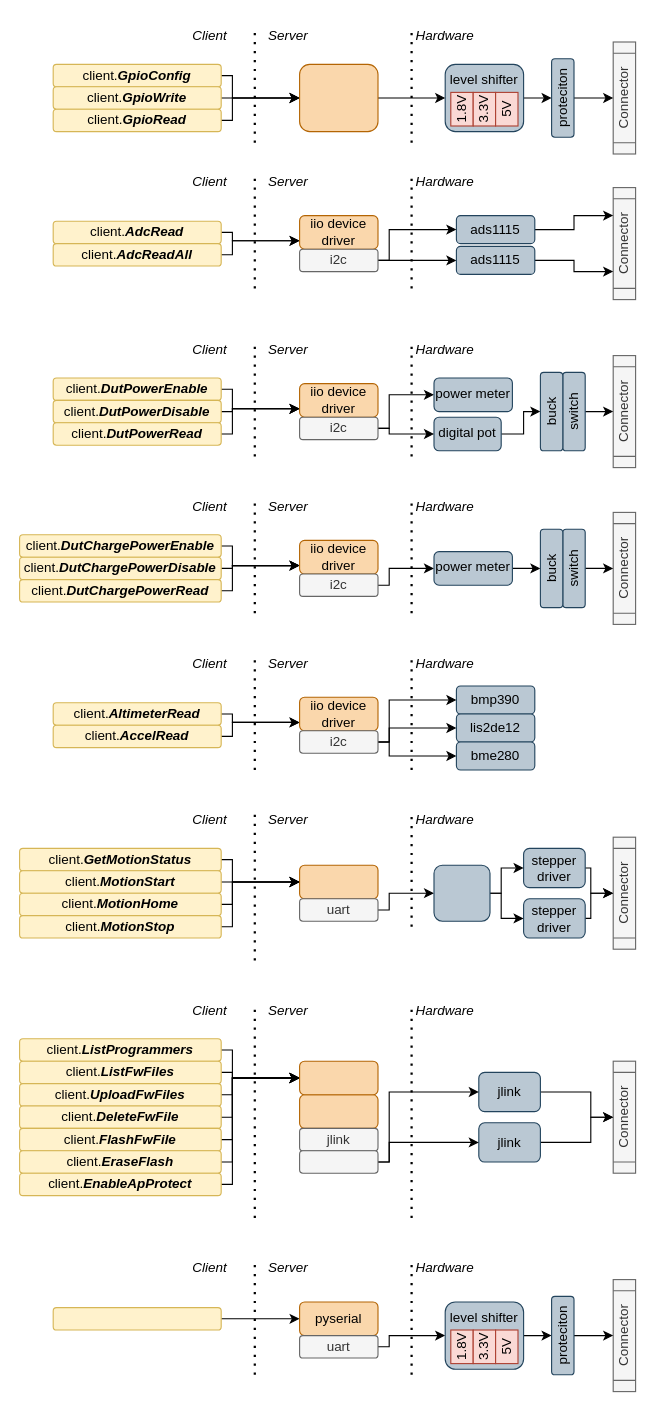
The diagram is 655 pixels wide and 1411 high, and some of its shapes have lost their labels. Here are the shapes that lost their labels. From the top down, the box of each, then its label:
(298, 63, 378, 132): gpiod
(298, 864, 378, 899): fluidnc driver
(433, 864, 490, 921): esp32
(298, 1060, 378, 1095): programmer driver
(298, 1094, 378, 1128): nrfjprog
(298, 1150, 378, 1173): usb
(52, 1306, 221, 1330): client. UartStream
